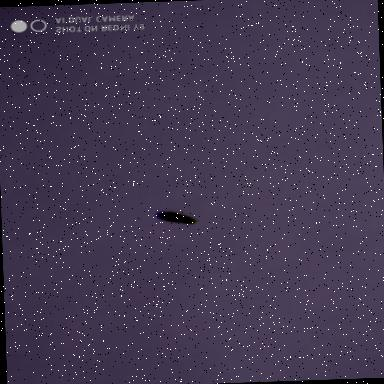pbw: (158, 212, 196, 225)
